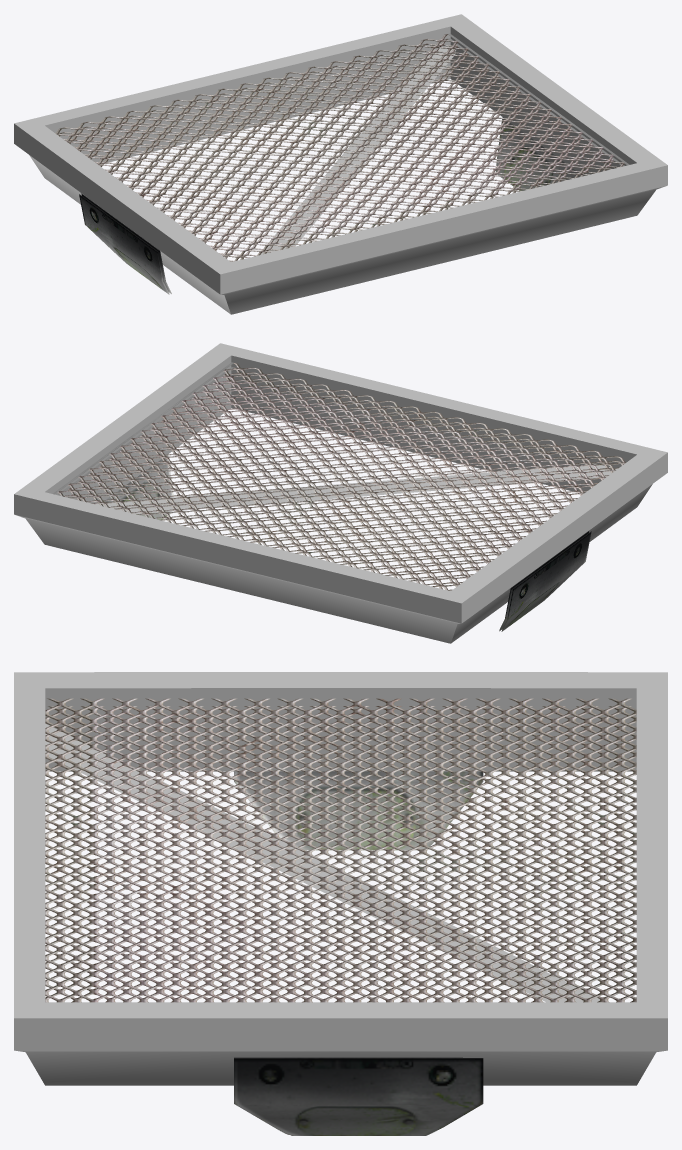
Rendered from Floor_F_2'5qmts_26.fbx.
3 views of the same model, one above another, from view 1: azimuth 30°, elevation 25°; view 2: azimuth 150°, elevation 25°; view 3: azimuth 270°, elevation 25° (orthographic). The views are drawn at different scales.
Parts seen in each view (by area): view 1: frame_, grid_, details_; view 2: frame_, grid_, details_; view 3: grid_, frame_, details_.
Part boxes in pixels (left/top/right/bottom): frame_: left=14, top=14, right=667, bottom=314; grid_: left=55, top=33, right=629, bottom=261; details_: left=79, top=117, right=580, bottom=294; frame_: left=14, top=343, right=667, bottom=643; grid_: left=53, top=362, right=626, bottom=590; details_: left=104, top=455, right=591, bottom=631; grid_: left=45, top=698, right=636, bottom=1002; frame_: left=14, top=672, right=667, bottom=1085; details_: left=234, top=771, right=483, bottom=1135.
Size of the model in its own units: 251 by 49.97 by 200.
